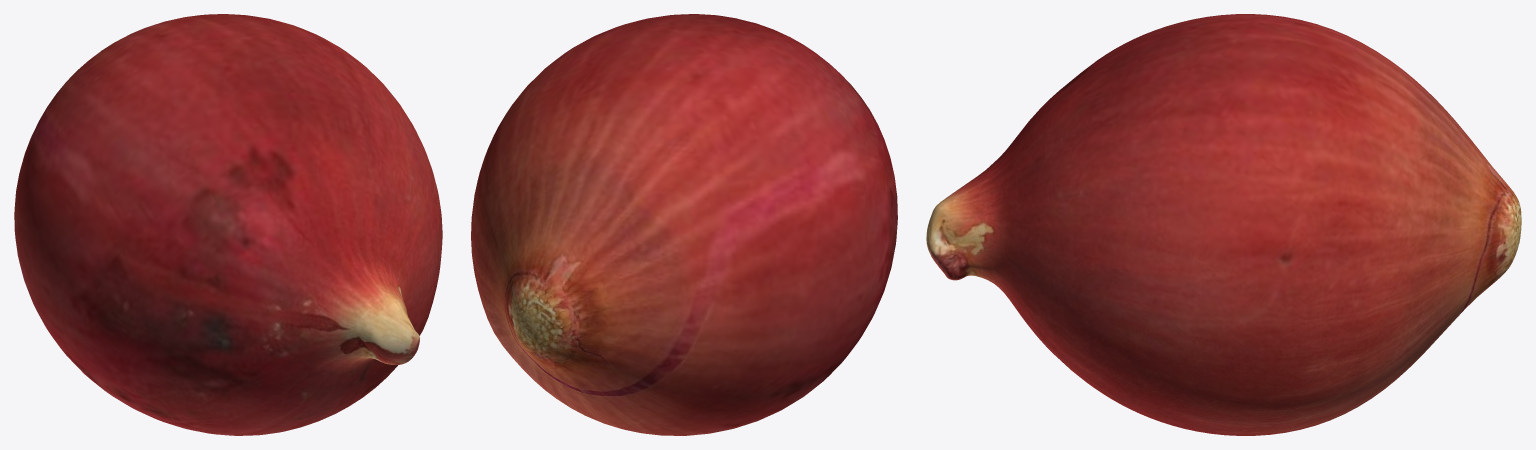
The model's file is onion.glb.
3 renders of one model, left to right at view 1: azimuth 30°, elevation 25°; view 2: azimuth 150°, elevation 25°; view 3: azimuth 270°, elevation 25°, orthographic.
Visible parts, largest first — view 1: onion; view 2: onion; view 3: onion.
Boxes of the visible parts, left/top/right/bottom form: onion: left=14, top=14, right=442, bottom=435; onion: left=471, top=14, right=897, bottom=435; onion: left=926, top=14, right=1521, bottom=435.
Bounding box in the file's own units: 0.0705 × 0.07 × 0.0993.
1 material, 1 textured.
